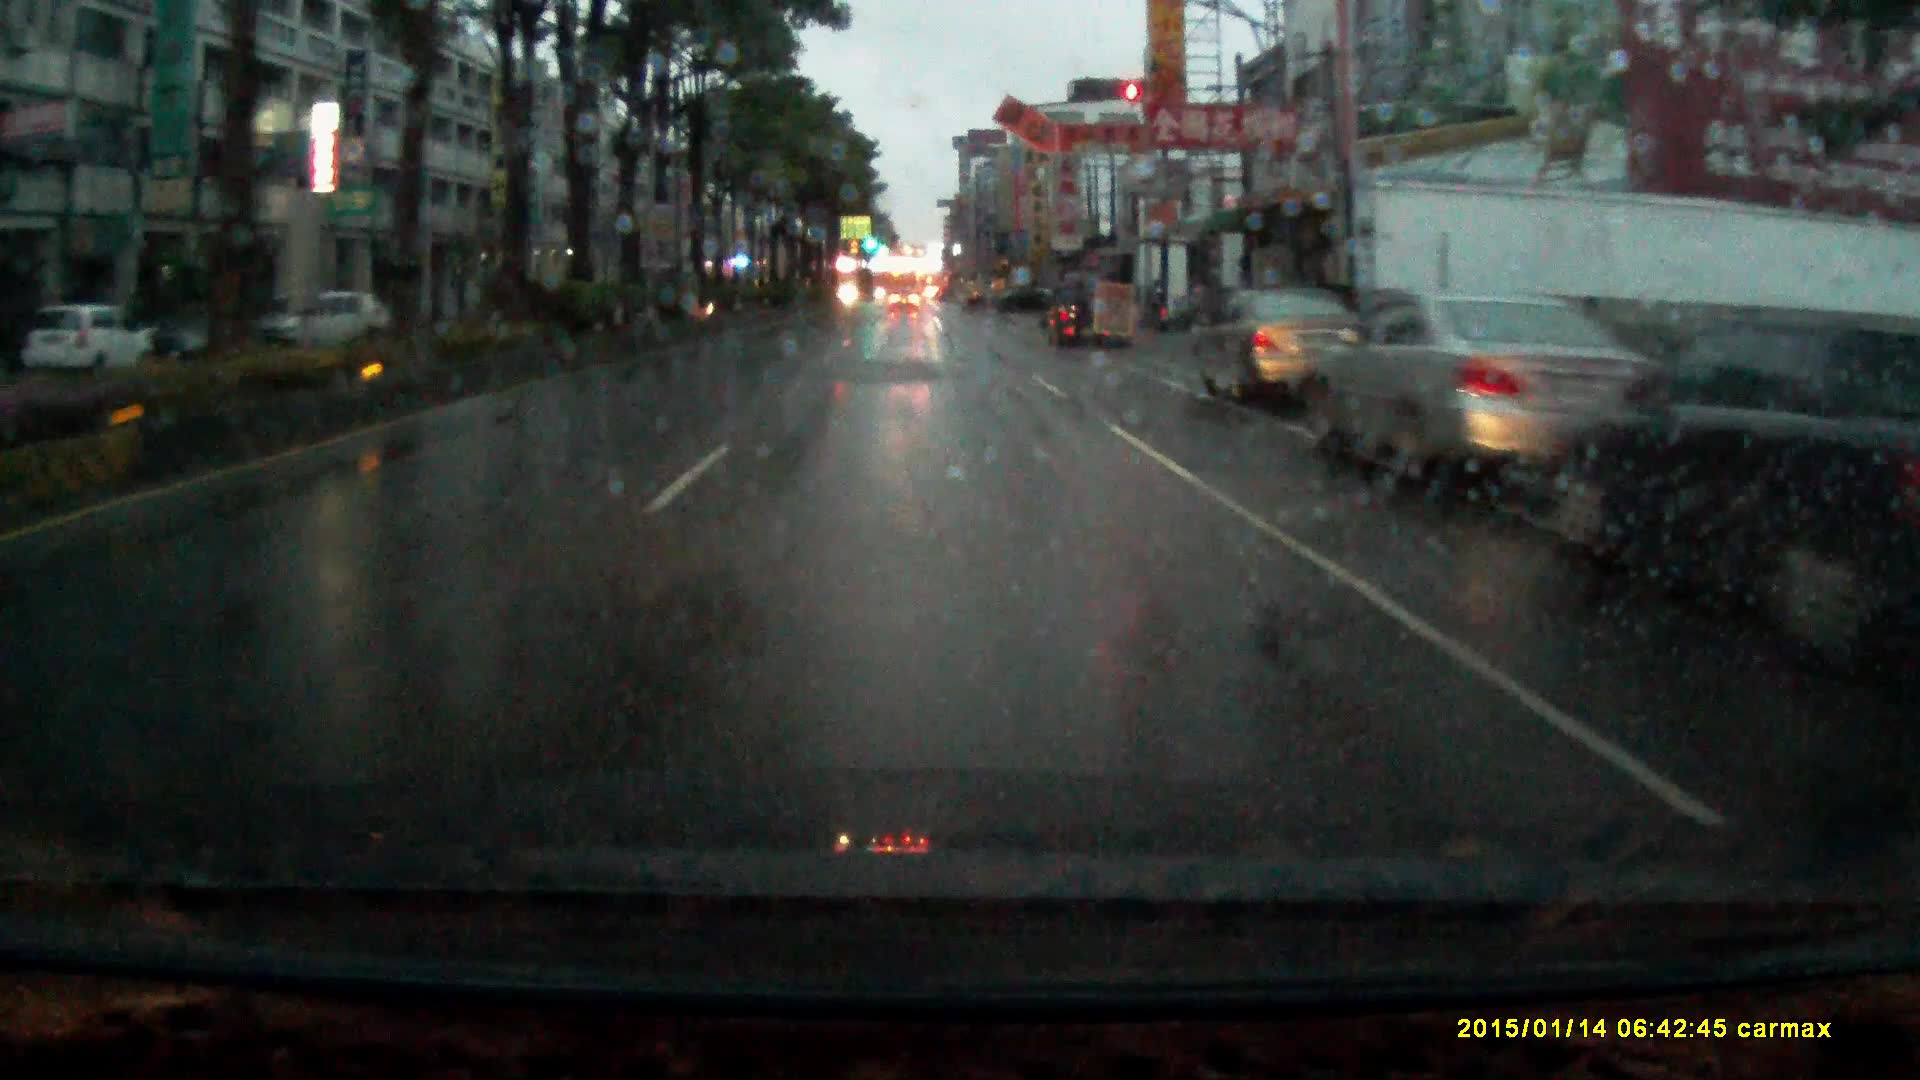vehicle: (1557, 316, 1863, 588), (1307, 295, 1701, 500), (1193, 295, 1369, 410), (30, 311, 157, 382), (237, 295, 375, 359), (1047, 284, 1125, 356), (887, 290, 922, 320)
